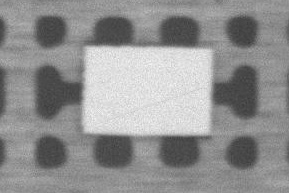DIE_CRACK: (160, 58, 289, 80)
